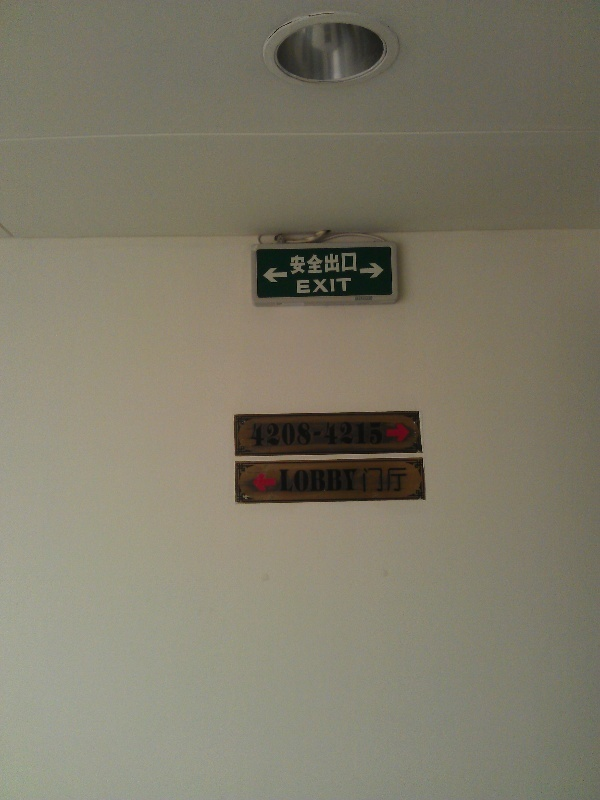text: (289, 466, 304, 496), (305, 466, 320, 496), (321, 466, 336, 496), (337, 466, 352, 496), (369, 420, 385, 448), (369, 465, 384, 494), (385, 465, 400, 494), (257, 420, 272, 448), (273, 420, 288, 448), (289, 420, 304, 448), (305, 420, 320, 448), (321, 420, 336, 448), (337, 420, 352, 448), (353, 420, 368, 448), (289, 251, 304, 276), (305, 251, 320, 276), (321, 251, 336, 276), (337, 251, 352, 276), (305, 276, 320, 296), (321, 276, 336, 296), (337, 276, 352, 296), (401, 465, 411, 494), (279, 466, 288, 496), (294, 276, 304, 296), (362, 465, 368, 494), (250, 420, 256, 448), (353, 466, 358, 496), (353, 251, 358, 276), (353, 276, 354, 296)
